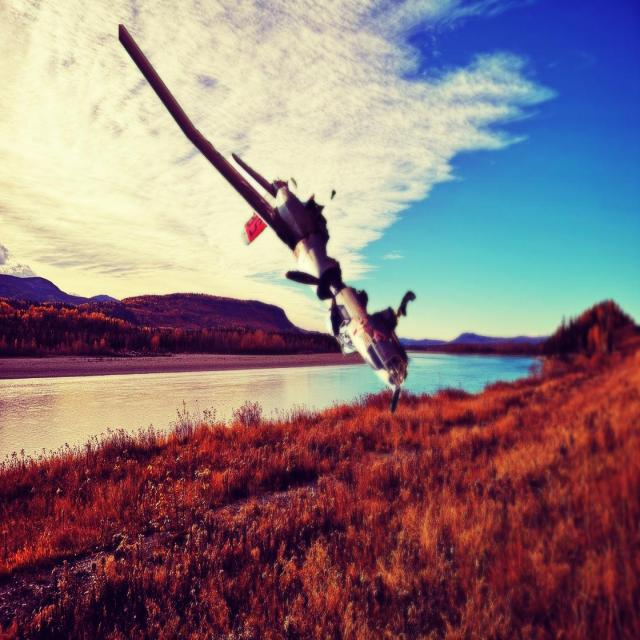airplane: (117, 22, 417, 414)
